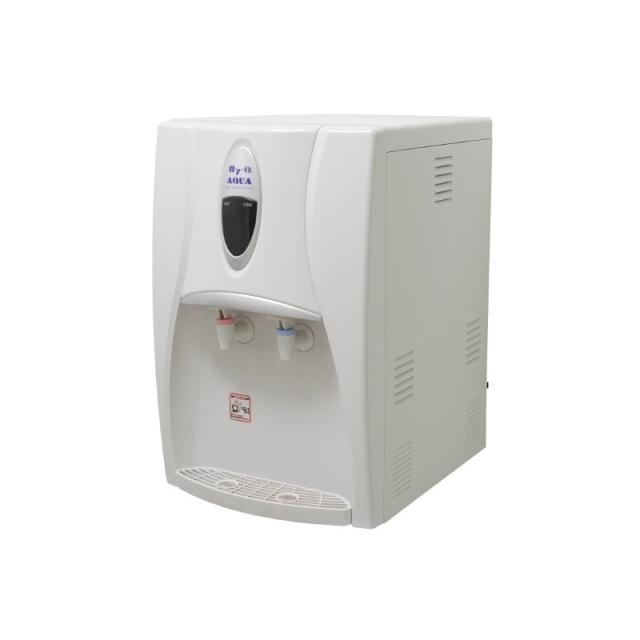Dispenser: (153, 112, 492, 528)
